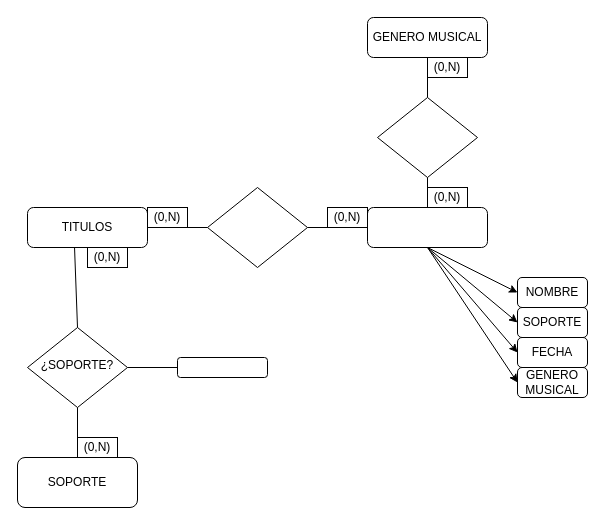
Some shapes in this 605 by 525 pixel diagram are drawn without their labels. Each missing label, with the centre of its shape:
"AUTORES" goes at [427,227].
"FECHA PUB." goes at [222,367].
"GENERO M." goes at [427,137].
"REGISTRO" goes at [257,227].
